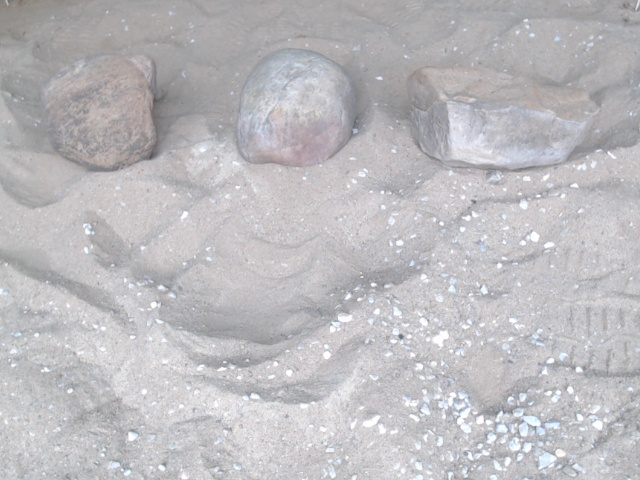rock: (400, 63, 607, 177), (231, 44, 362, 170), (39, 51, 163, 173)
